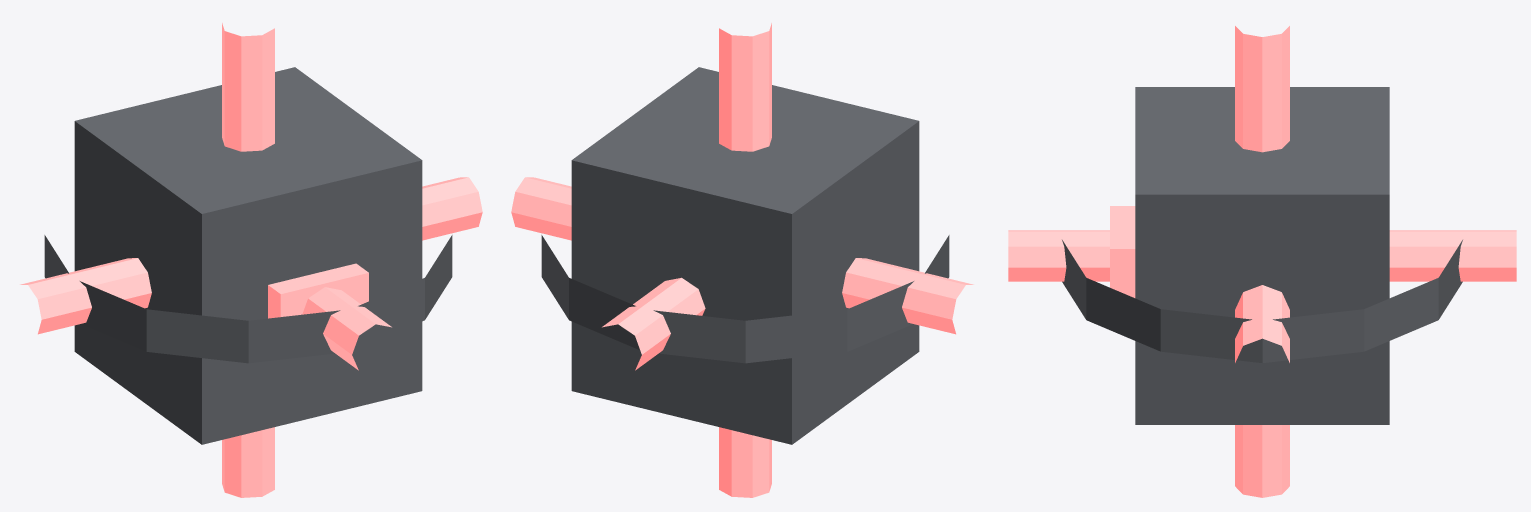
File: obs_03_patrol_mine.glb
3 renders of one model, left to right at view 1: azimuth 30°, elevation 25°; view 2: azimuth 150°, elevation 25°; view 3: azimuth 270°, elevation 25°, orthographic.
Parts seen in each view (by area): view 1: Obs03_PatrolMine; view 2: Obs03_PatrolMine; view 3: Obs03_PatrolMine.
Boxes of the visible parts, x1,y1,x2,y2 form: Obs03_PatrolMine: (20,23,482,497); Obs03_PatrolMine: (511,23,973,497); Obs03_PatrolMine: (1008,26,1516,497).
Size of the model in its own units: 1.3 by 1.3 by 1.3.
